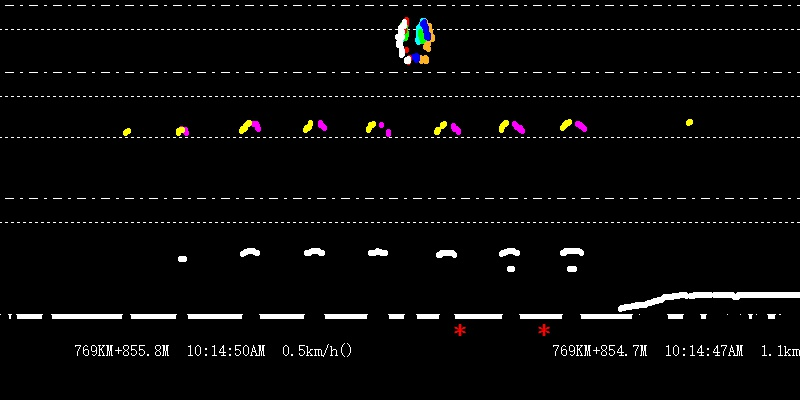J: (394, 4, 435, 64)
star: (451, 321, 466, 339), (536, 323, 551, 336)
y_p: (222, 114, 597, 266)
